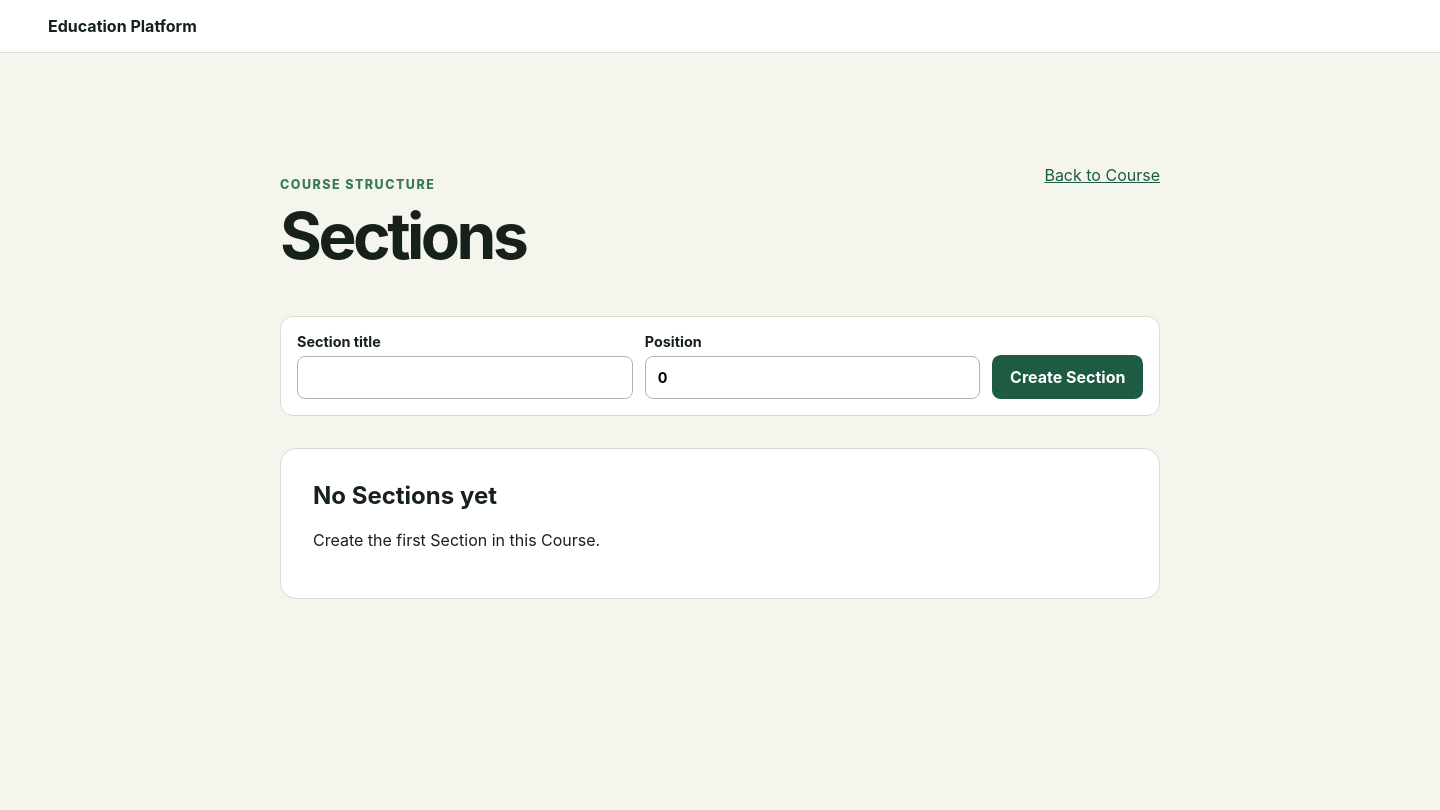
Test case: Section UI › creates a Section and refetches the scoped list
Type "Introduction" into the field labelled "Section title" at point(465, 378), box [297,356,633,399]
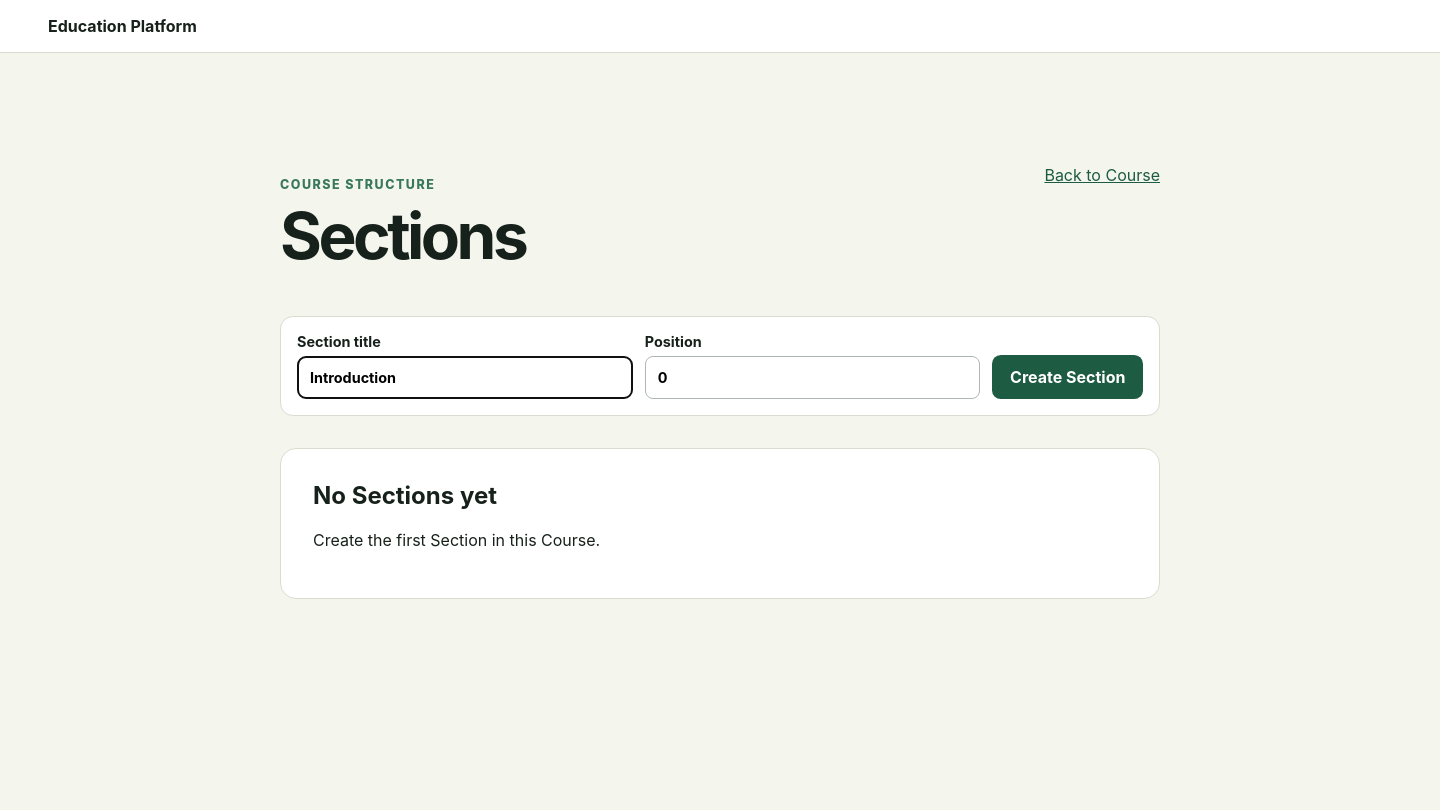
Click the button "Create Section" at point(1068, 377), box [992,355,1143,399]
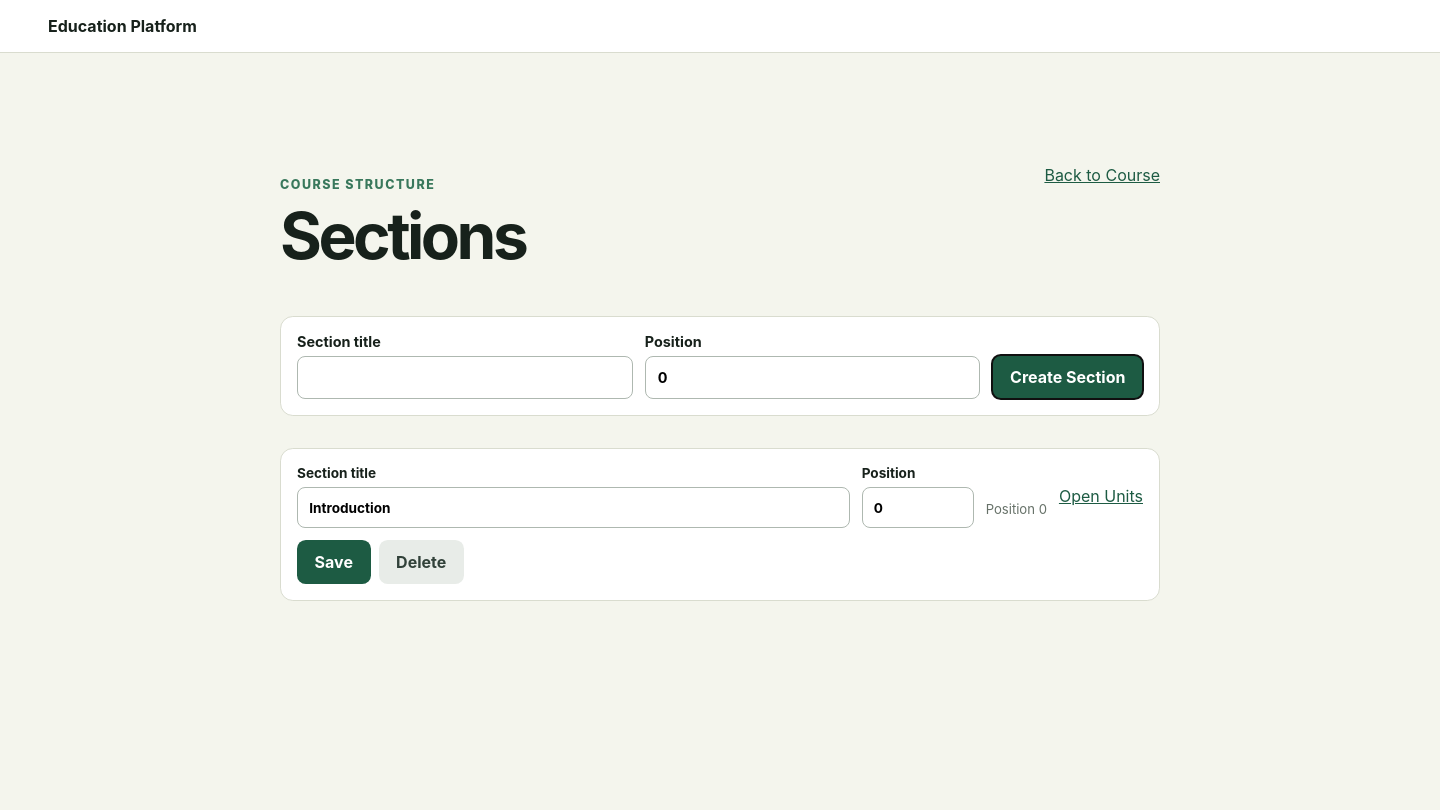
Expected: the field showing "Introduction" in the row of "Open Units" is shown, [297,487,850,528]
